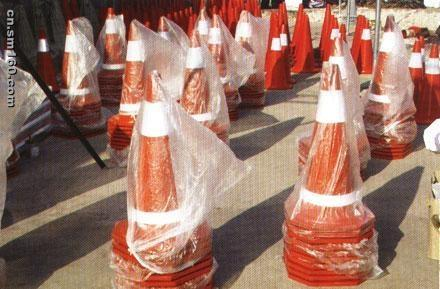cone_barrel: (289, 64, 362, 220), (122, 70, 188, 237), (363, 13, 410, 105), (180, 29, 218, 128), (54, 17, 94, 104), (114, 18, 147, 118), (95, 10, 125, 75), (263, 23, 288, 88), (32, 30, 57, 94), (292, 15, 317, 73), (206, 16, 226, 77), (355, 20, 373, 74), (423, 36, 439, 91), (408, 37, 423, 78)
